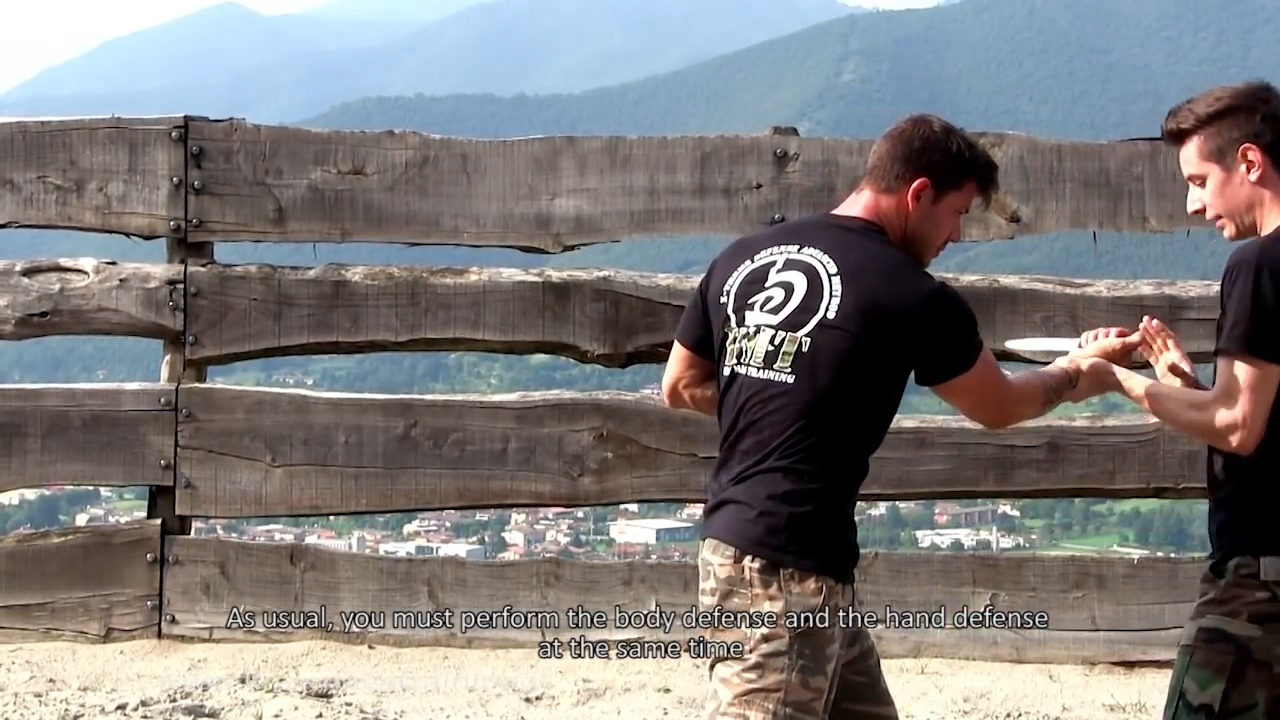knife: (997, 319, 1142, 358)
